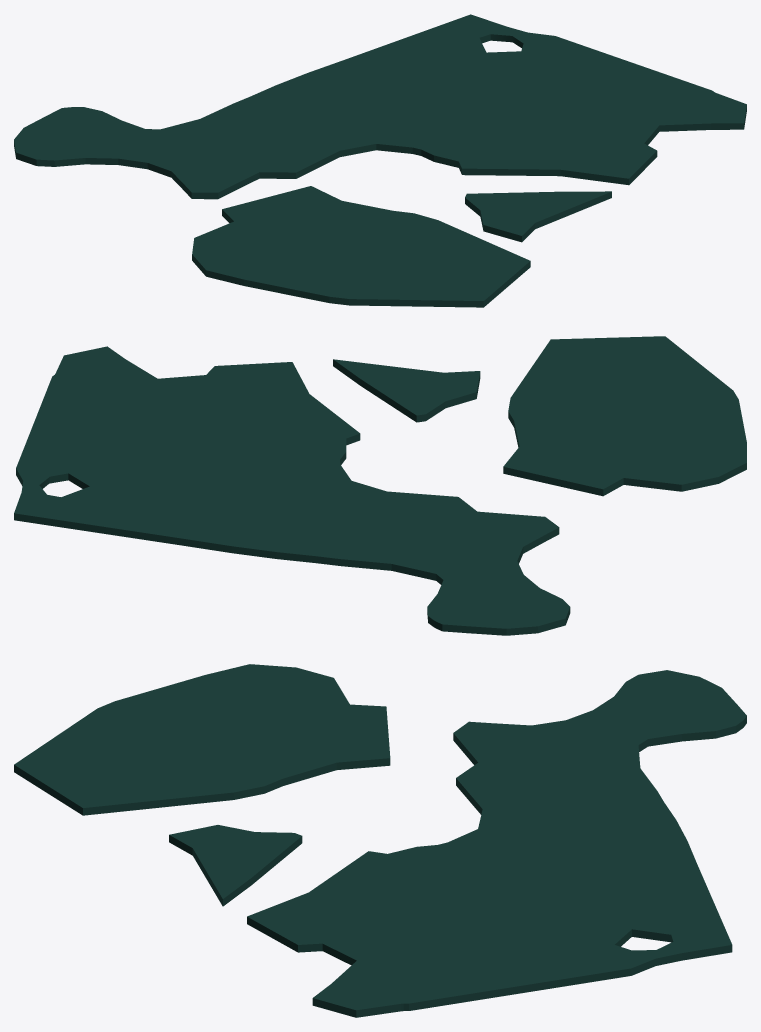
File: WaterCollider.obj
3 renders of one model, top to bottom at view 1: azimuth 30°, elevation 25°; view 2: azimuth 150°, elevation 25°; view 3: azimuth 270°, elevation 25°, orthographic. The views are drawn at different scales.
Visible parts, largest first — view 1: pPlane2; view 2: pPlane2; view 3: pPlane2.
Part boxes in pixels (x1,y1,x2,y2): pPlane2: (14,14,746,307); pPlane2: (14,336,746,635); pPlane2: (14,664,746,1017).
Bounding box in the file's own units: 4788 × 130 × 4359.
